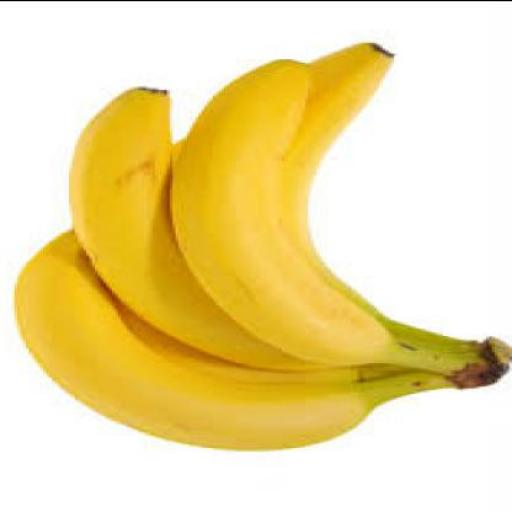biodegradable: (18, 224, 460, 447), (173, 56, 489, 366), (69, 83, 372, 369), (256, 40, 486, 353)
